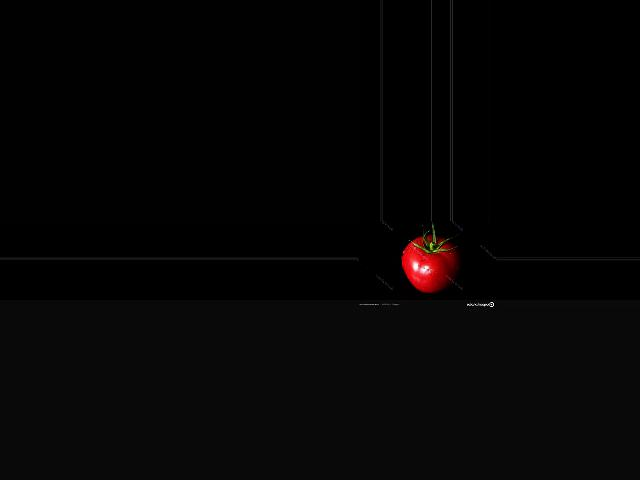tomato: (401, 235, 461, 293)
